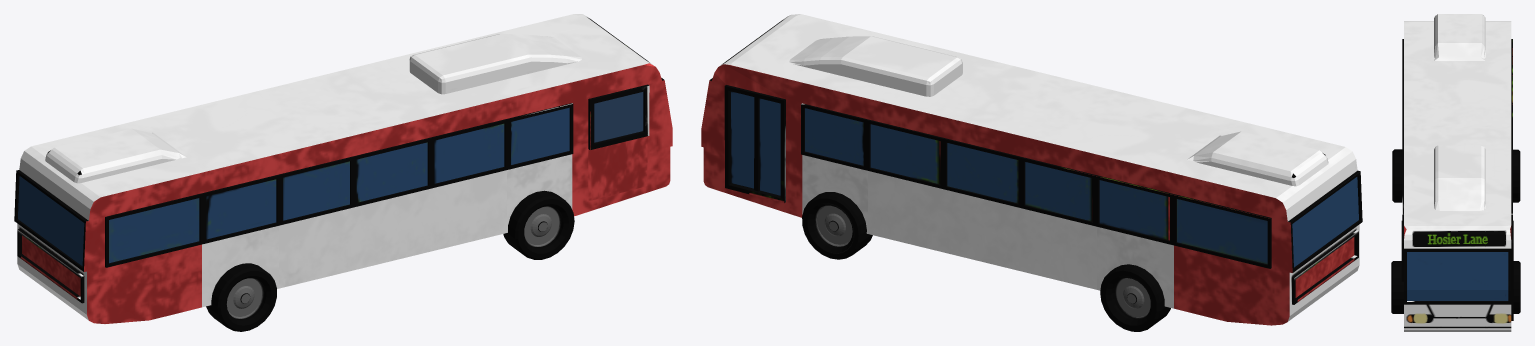
File: Bus_02.fbx
The picture shows the model from 3 angles, left to right: view 1: azimuth 30°, elevation 25°; view 2: azimuth 150°, elevation 25°; view 3: azimuth 270°, elevation 25°; orthographic projection. The views are drawn at different scales.
Visible parts, largest first — view 1: polySurface25; view 2: polySurface25; view 3: polySurface25.
Boxes of the visible parts, <box> form: polySurface25: <box>14,14,672,331</box>; polySurface25: <box>701,14,1362,331</box>; polySurface25: <box>1391,14,1520,331</box>.
Size of the model in its own units: 1258 by 368 by 311.
1 material, 1 textured.
